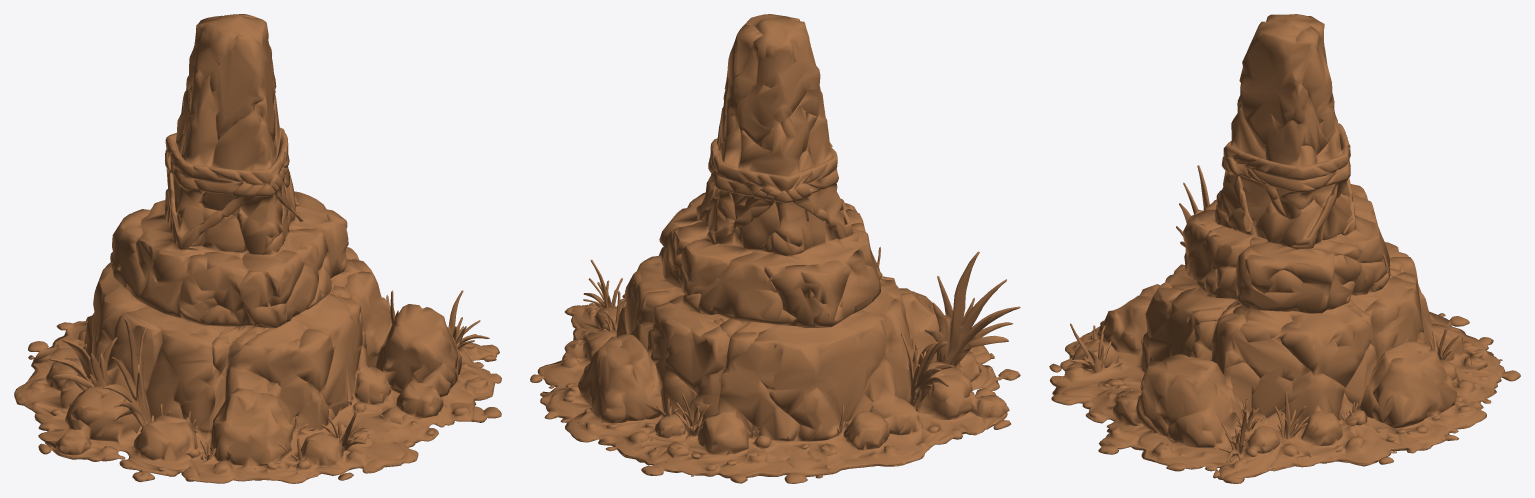
Rendered from altar_de_piedras.glb.
3 renders of one model, left to right at view 1: azimuth 30°, elevation 25°; view 2: azimuth 150°, elevation 25°; view 3: azimuth 270°, elevation 25°, orthographic. The views are drawn at different scales.
Visible parts, largest first — view 1: altar_de_piedras; view 2: altar_de_piedras; view 3: altar_de_piedras.
Part boxes in pixels (x1=…): altar_de_piedras: x1=14, y1=14, x2=501, y2=483; altar_de_piedras: x1=530, y1=14, x2=1020, y2=483; altar_de_piedras: x1=1049, y1=14, x2=1520, y2=483.
Size of what is drawn, in the model's own units: 1.53 by 1.2 by 1.44.
Materials: 1 (1 with a texture image).
